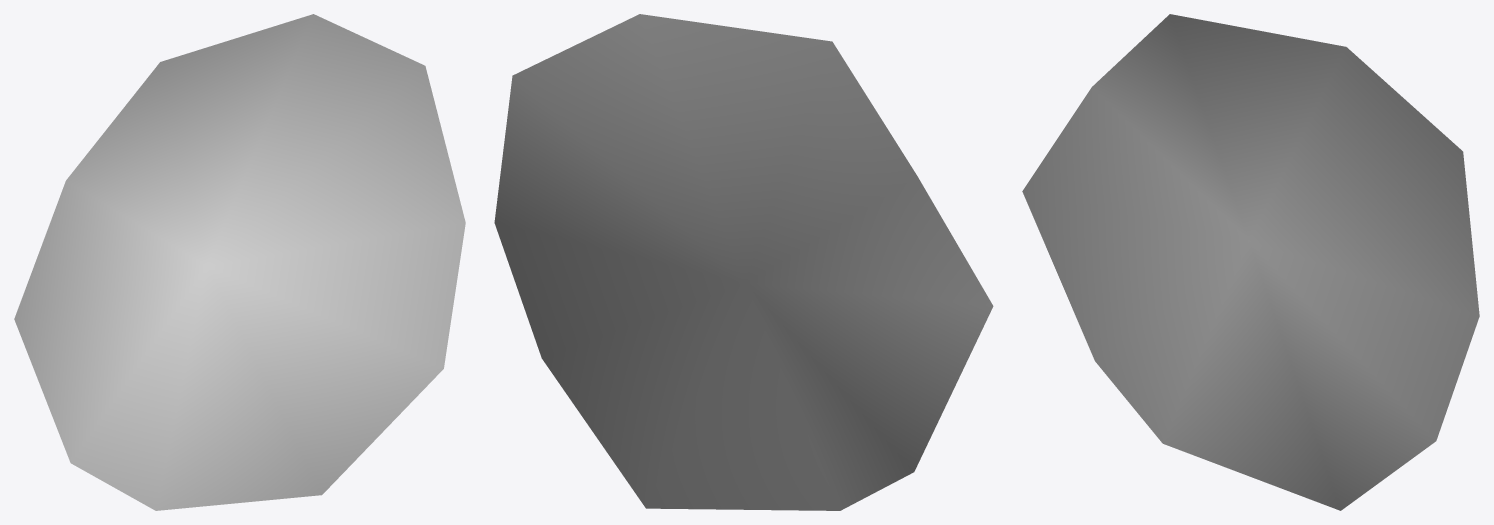
Rendered from SM_Moss_Patch.glb.
The picture shows the model from 3 angles, left to right: view 1: azimuth 30°, elevation 25°; view 2: azimuth 150°, elevation 25°; view 3: azimuth 330°, elevation 25°; orthographic projection. The views are drawn at different scales.
Parts seen in each view (by area): view 1: asset_moss_patch; view 2: asset_moss_patch; view 3: asset_moss_patch.
Part boxes in pixels (box(x1,y1,x2,y2)): asset_moss_patch: box(14, 14, 465, 510); asset_moss_patch: box(494, 14, 993, 510); asset_moss_patch: box(1022, 14, 1479, 510).
Size of the model in its own units: 1.22 by 1.21 by 0.1059.
Materials: 1 (1 with a texture image).
